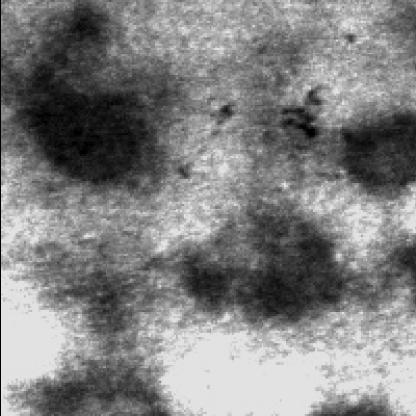patches: (8, 6, 150, 178), (19, 260, 156, 414), (177, 209, 341, 322), (322, 110, 410, 196)
